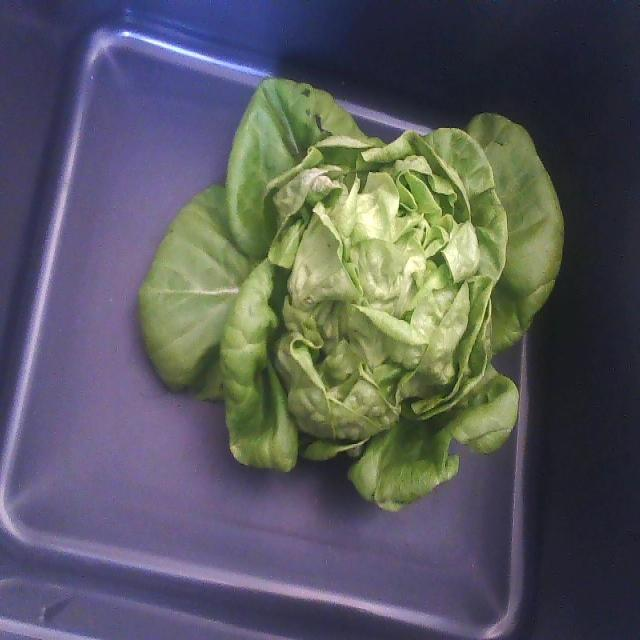lettuce: (140, 80, 562, 509)
